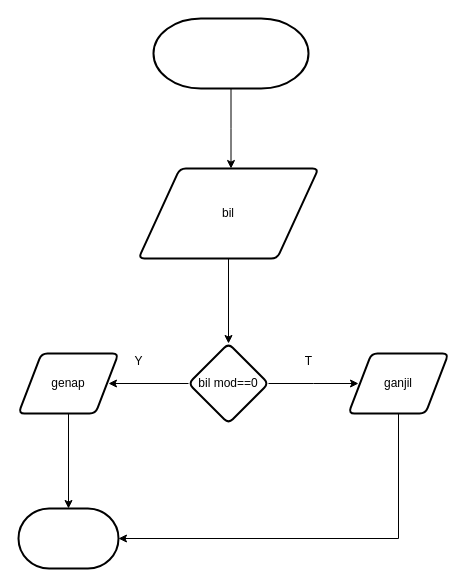
This 466x586 diagram has some shape labels left out. Here are the shapes that lost their labels. From the top down, the centre of each, then its label:
At pixel 230 53: "mulai".
At pixel 68 538: "end".
